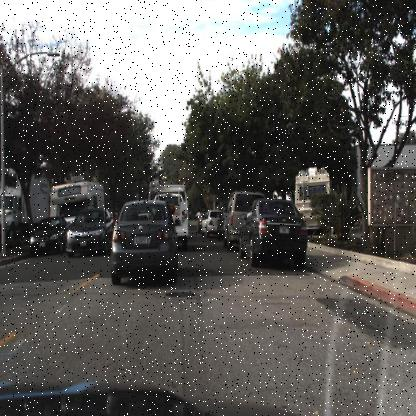car: (110, 197, 180, 283), (240, 202, 310, 268), (294, 163, 334, 240), (62, 206, 112, 260), (148, 175, 188, 241), (222, 192, 264, 252), (50, 180, 104, 221), (199, 207, 224, 240)
truck: (46, 176, 103, 247), (0, 159, 48, 235), (296, 172, 338, 246), (151, 188, 193, 252)
